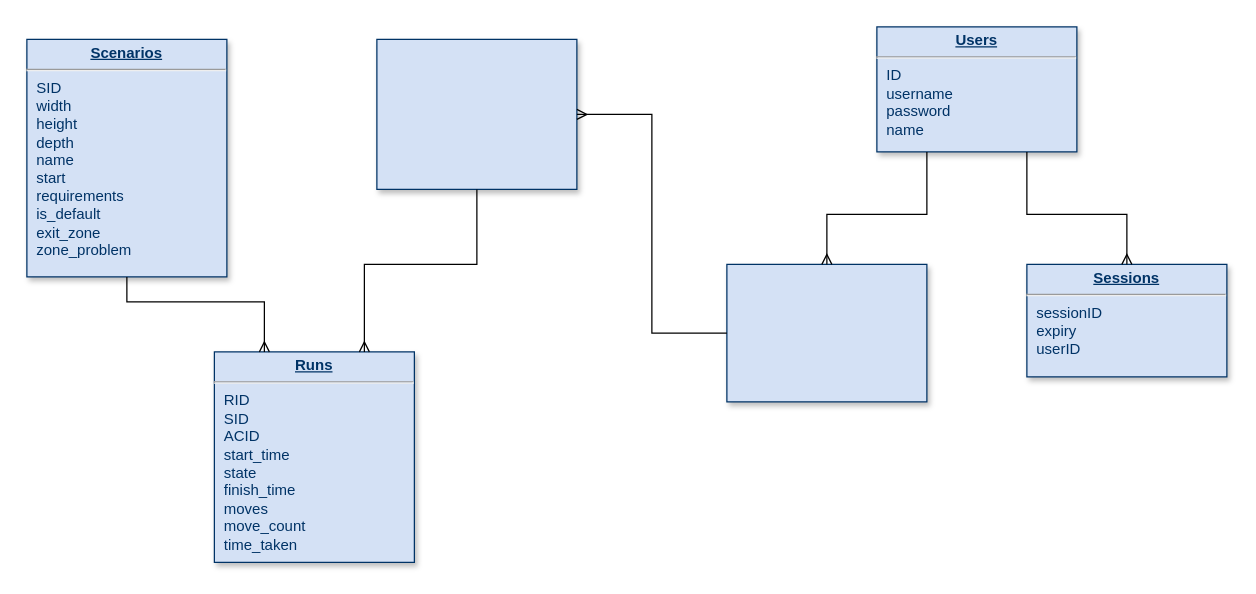
Image size: 1256x594. Some labels were removed from this diagram. Each missing label, with the centre of its shape:
ACReg ACID name state tokenID publish_runs: (477,115)
Tokens ID token timestamp userID: (827,334)
